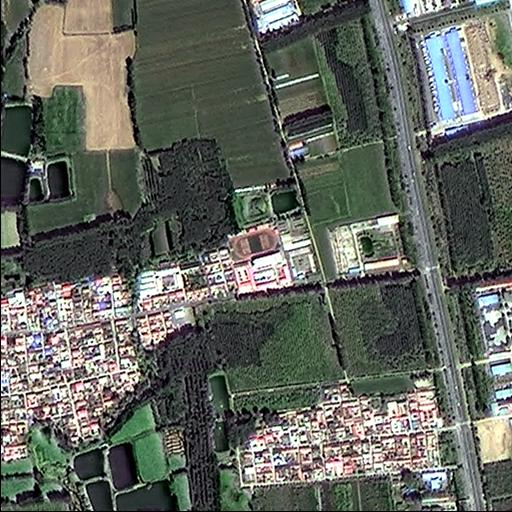school: (223, 224, 293, 295)
